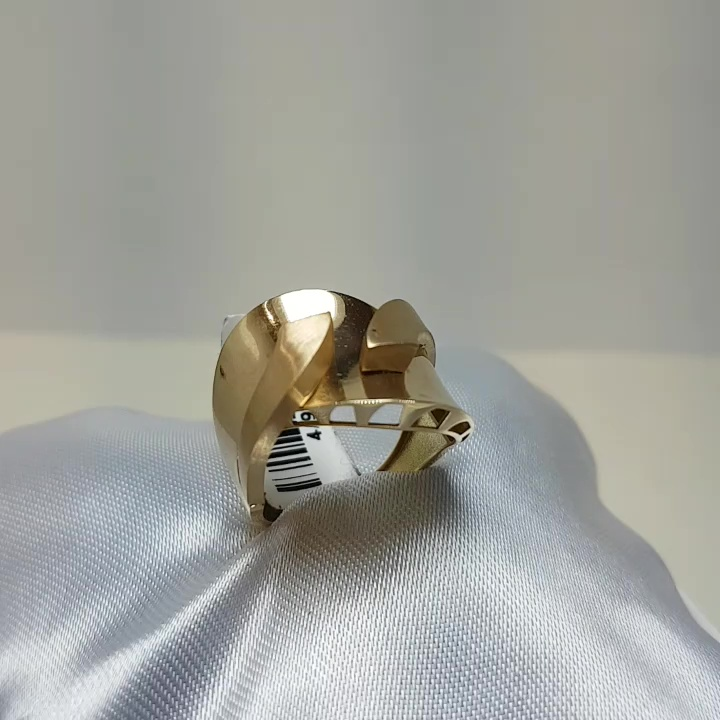Ring 4: (179, 276, 474, 549)
